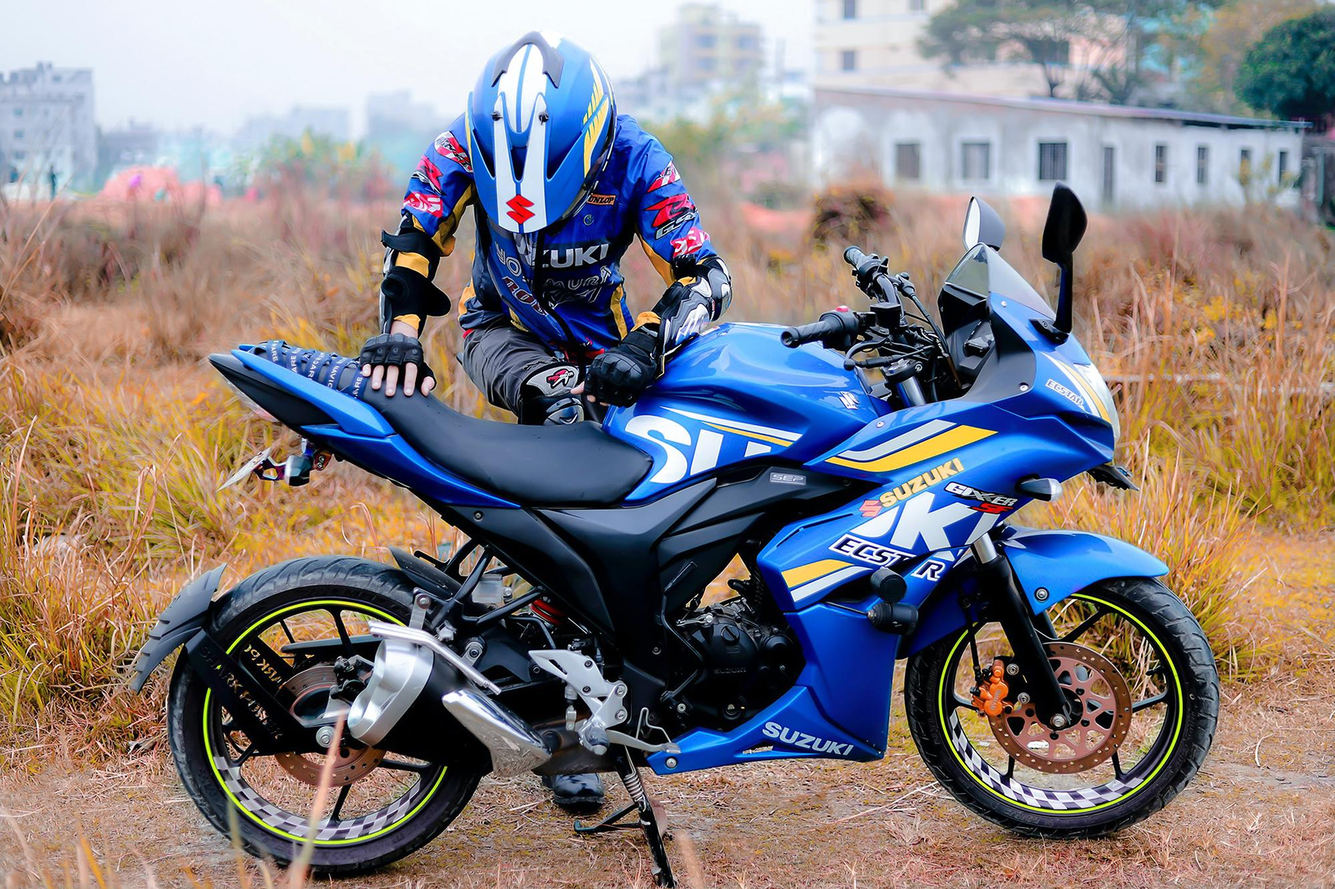helmet: (464, 27, 618, 235)
